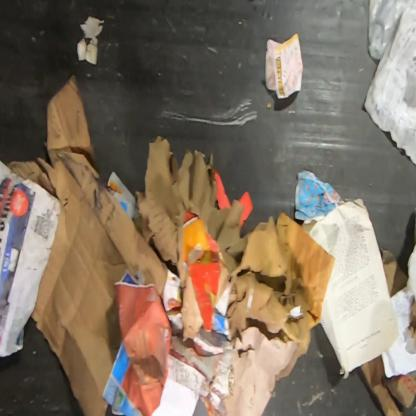cardboard: (132, 135, 337, 415), (7, 72, 169, 415), (360, 352, 415, 415), (381, 248, 408, 300)
soft_plastic: (367, 0, 415, 61)
